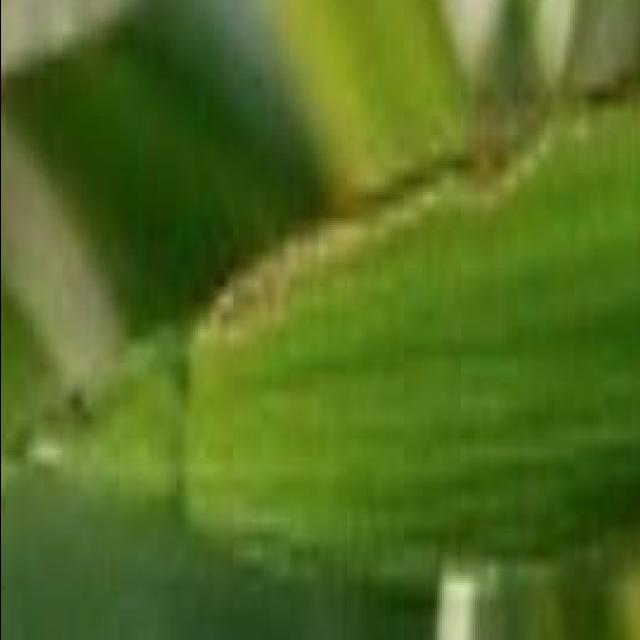Bacterial_Leaf_Blight: (36, 93, 640, 562)
